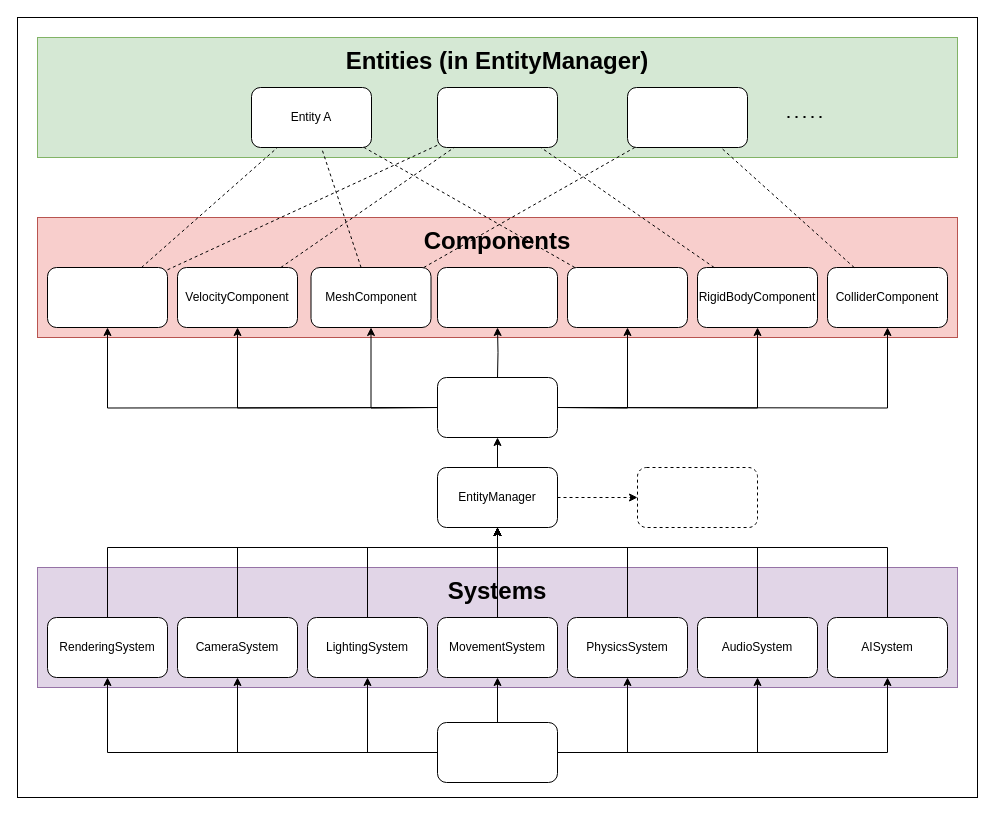
Some shapes in this 995 by 815 pixel diagram are drawn without their labels. The centre of each missing label's shape, as x and y in pixels:
Archetype: [697,497]
CameraComponent: [497,297]
ComponentArray: [497,407]
Entity B: [497,117]
Entity C: [687,117]
Game: [497,752]
LightComponent: [627,297]
TransformComponent: [107,297]
